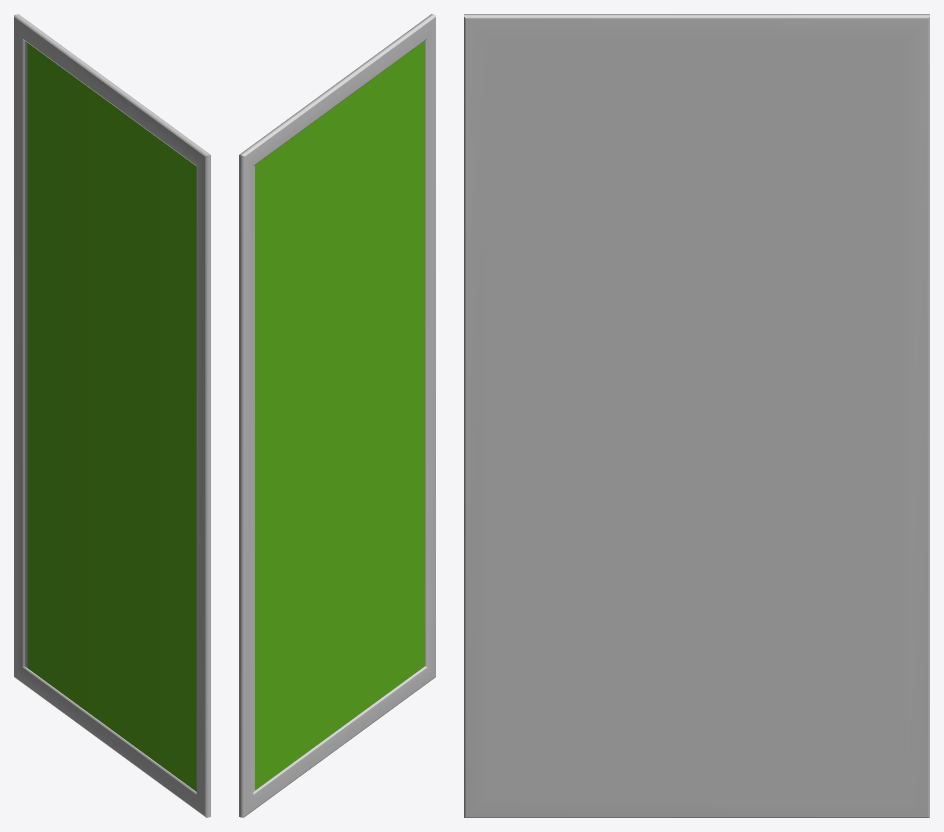
The model's file is Frame.fbx.
3 renders of one model, left to right at view 1: azimuth 30°, elevation 25°; view 2: azimuth 150°, elevation 25°; view 3: azimuth 270°, elevation 25°, orthographic. The views are drawn at different scales.
Parts seen in each view (by area): view 1: Marco; view 2: Marco; view 3: Marco.
Boxes of the visible parts, <box> form: Marco: <box>14,14,210,817</box>; Marco: <box>239,14,435,817</box>; Marco: <box>464,14,929,817</box>.
Bounding box in the file's own units: 0.4895 × 49.92 × 26.3.
